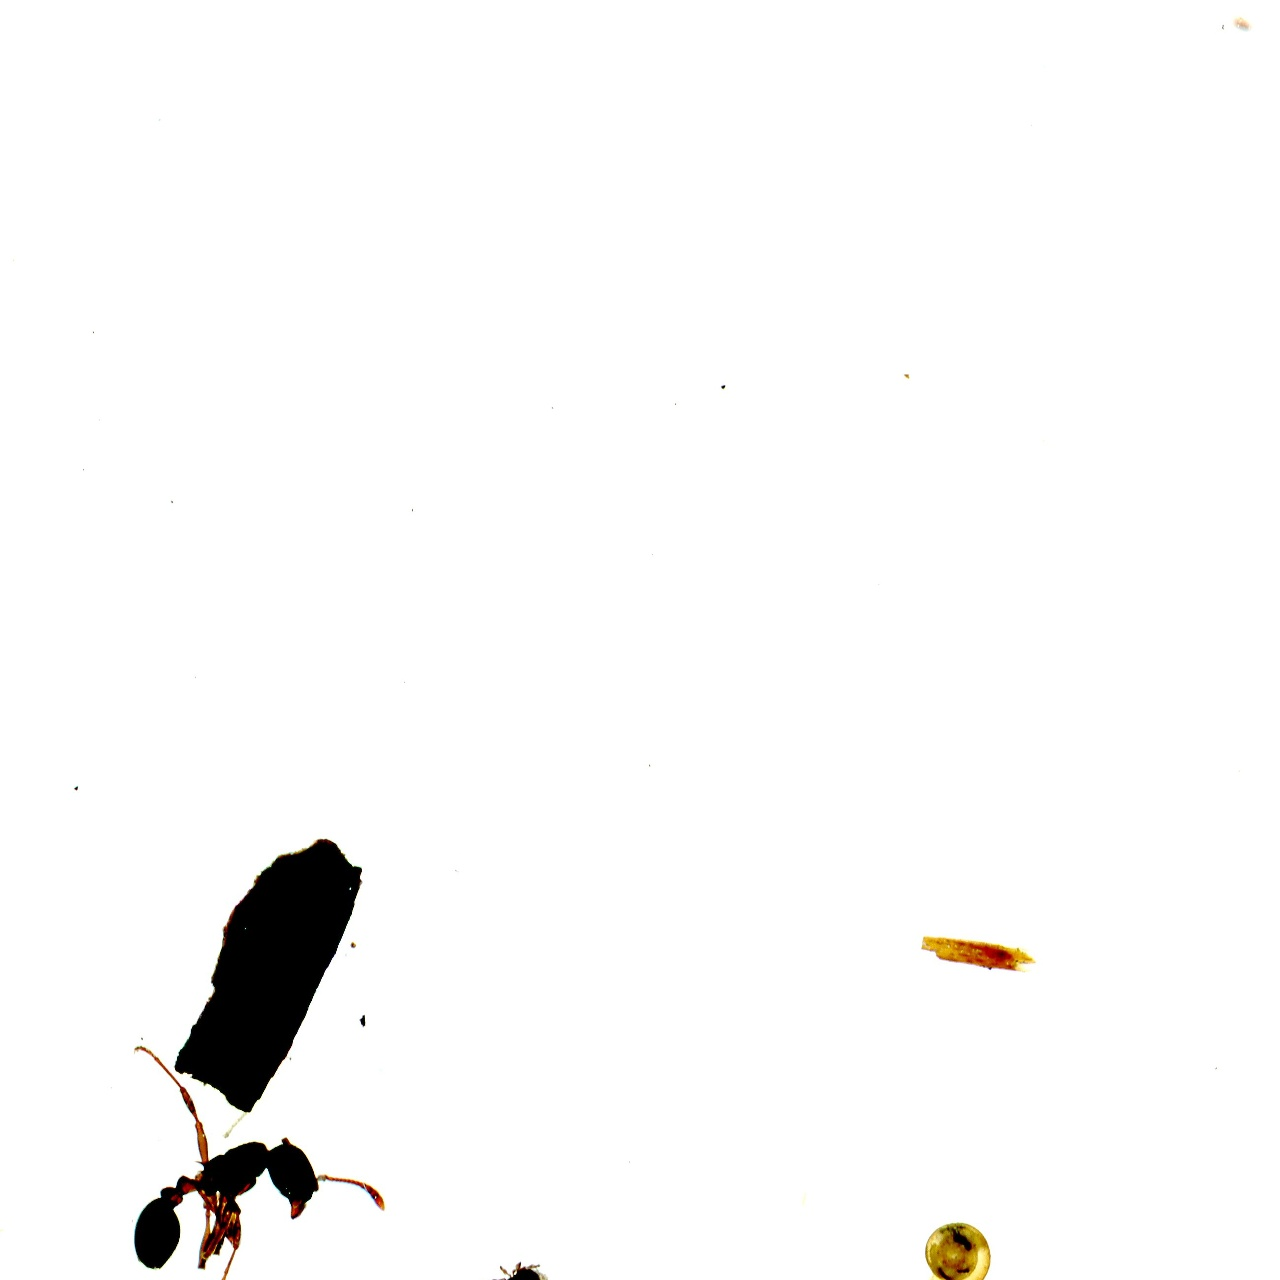arthropod: (118, 1025, 396, 1280), (919, 1213, 996, 1280), (474, 1257, 553, 1280)
